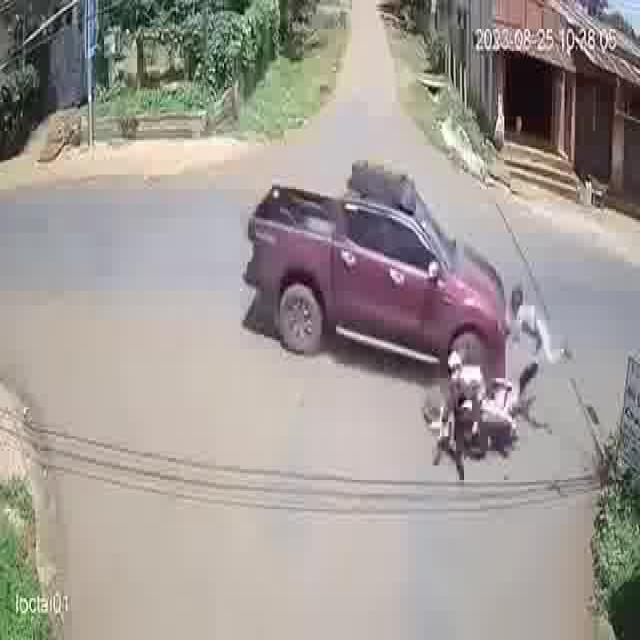multiple_accident: (233, 146, 578, 496)
